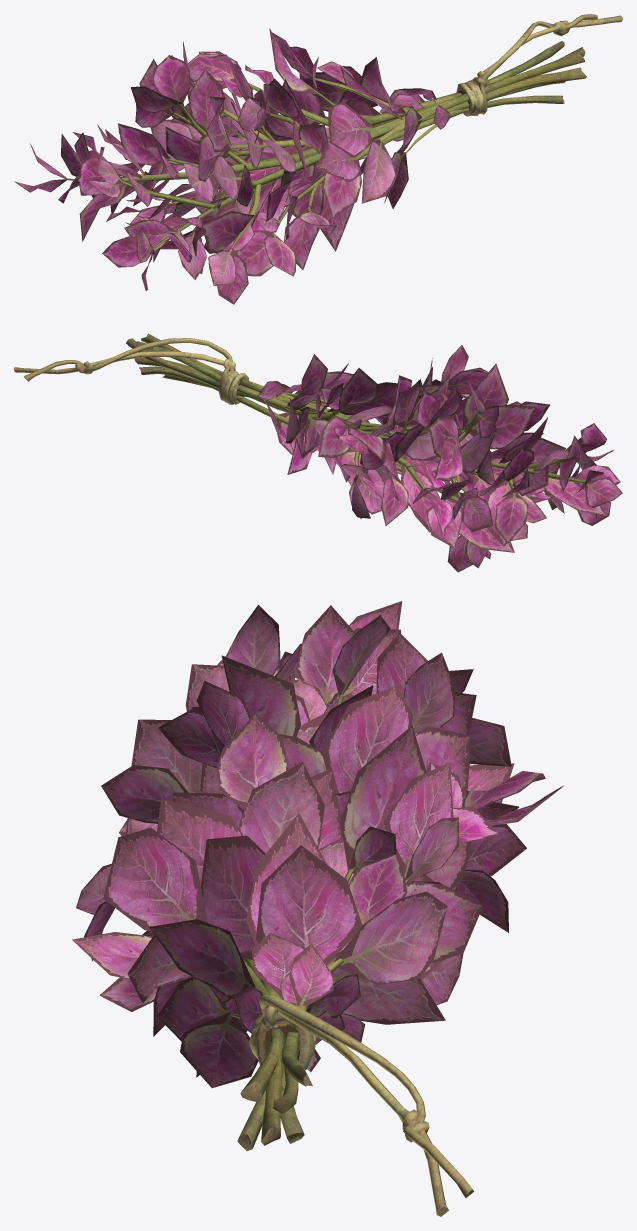
File: 052_RedHerb_Item.fbx
3 views of the same model, one above another, from view 1: azimuth 30°, elevation 25°; view 2: azimuth 150°, elevation 25°; view 3: azimuth 270°, elevation 25° (orthographic). The views are drawn at different scales.
Parts seen in each view (by area): view 1: LOD_1_Group_1_Sub_1__sm70_052_RedHerbItem01A_A_Mat__Env_Alph, LOD_1_Group_0_Sub_1__sm70_052_RedHerbItem01A_A_Mat__Env_Defa; view 2: LOD_1_Group_1_Sub_1__sm70_052_RedHerbItem01A_A_Mat__Env_Alph, LOD_1_Group_0_Sub_1__sm70_052_RedHerbItem01A_A_Mat__Env_Defa; view 3: LOD_1_Group_1_Sub_1__sm70_052_RedHerbItem01A_A_Mat__Env_Alph, LOD_1_Group_0_Sub_1__sm70_052_RedHerbItem01A_A_Mat__Env_Defa.
Part boxes in pixels (<box>): LOD_1_Group_1_Sub_1__sm70_052_RedHerbItem01A_A_Mat__Env_Alph: <box>14,28,586,304</box>; LOD_1_Group_0_Sub_1__sm70_052_RedHerbItem01A_A_Mat__Env_Defa: <box>456,14,622,116</box>; LOD_1_Group_1_Sub_1__sm70_052_RedHerbItem01A_A_Mat__Env_Alph: <box>126,333,622,572</box>; LOD_1_Group_0_Sub_1__sm70_052_RedHerbItem01A_A_Mat__Env_Defa: <box>14,338,248,404</box>; LOD_1_Group_1_Sub_1__sm70_052_RedHerbItem01A_A_Mat__Env_Alph: <box>72,601,563,1151</box>; LOD_1_Group_0_Sub_1__sm70_052_RedHerbItem01A_A_Mat__Env_Defa: <box>249,995,473,1216</box>.
Size of the model in its own units: 0.6361 by 0.2115 by 0.2323.
